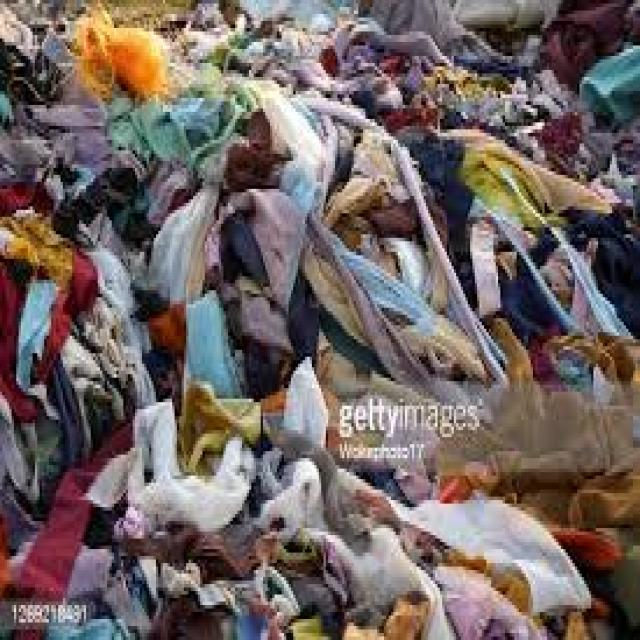Clothes -Biodegradable-: (0, 0, 640, 640), (0, 0, 640, 381)
